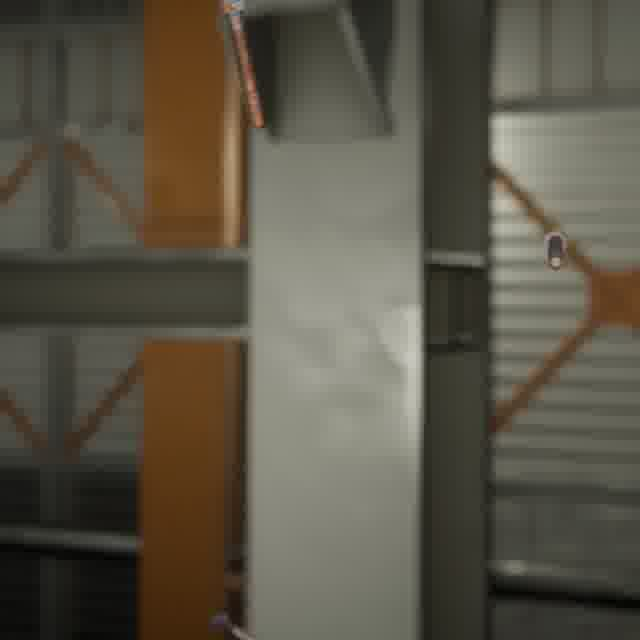bolt: (214, 0, 269, 132), (204, 606, 266, 640), (539, 223, 571, 274)
